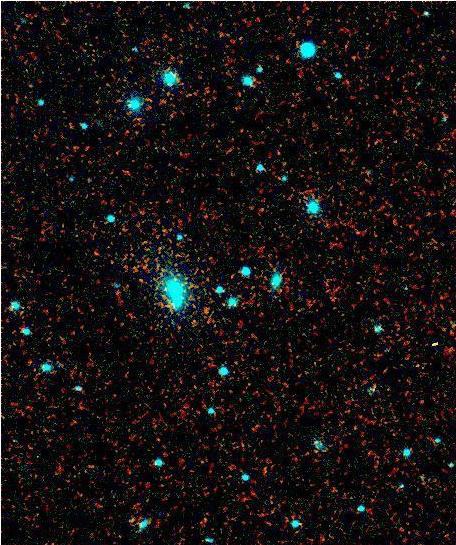star: (177, 302, 207, 332)
